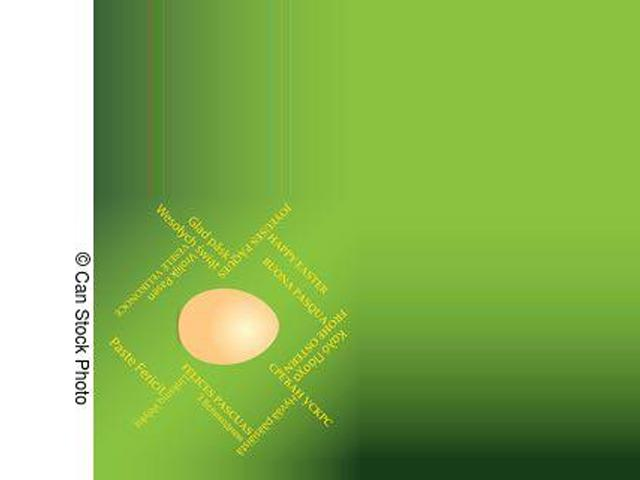egg: (177, 288, 278, 364)
